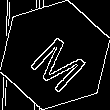M_NE: (20, 21, 90, 89)
